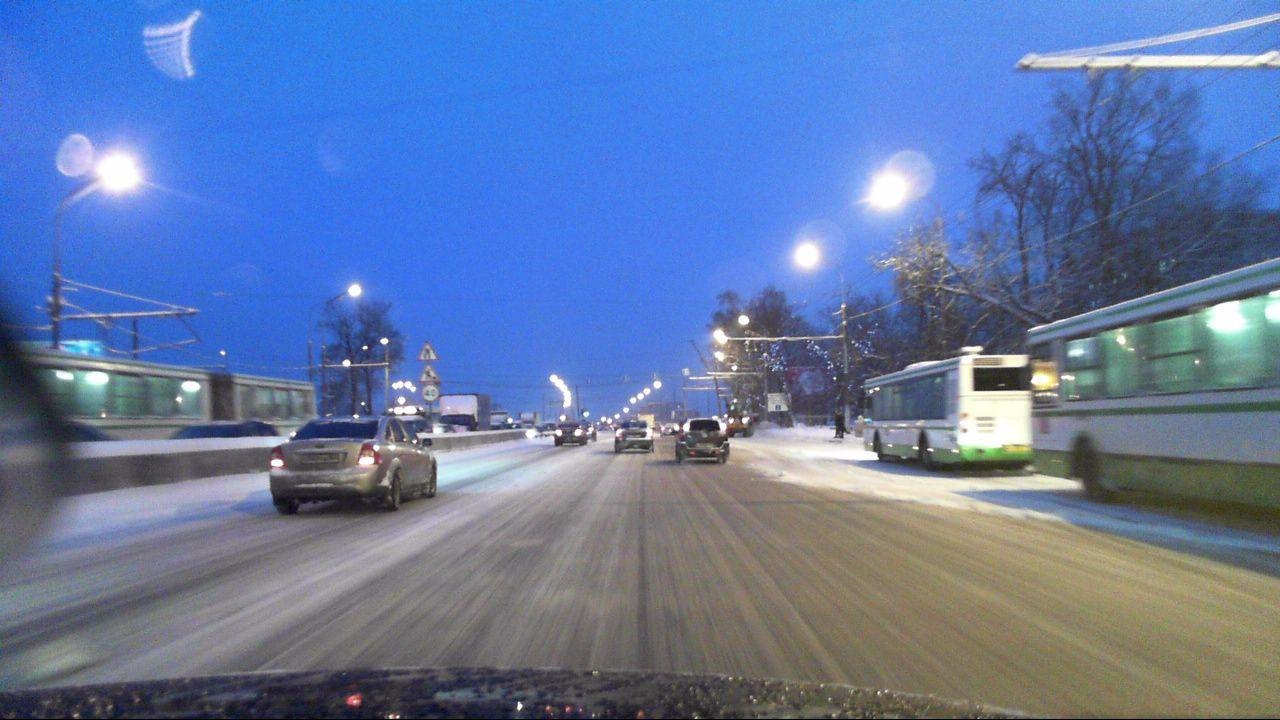1_20_3: (420, 340, 439, 360)
1_25: (418, 362, 443, 384)
3_24: (422, 386, 439, 402)
